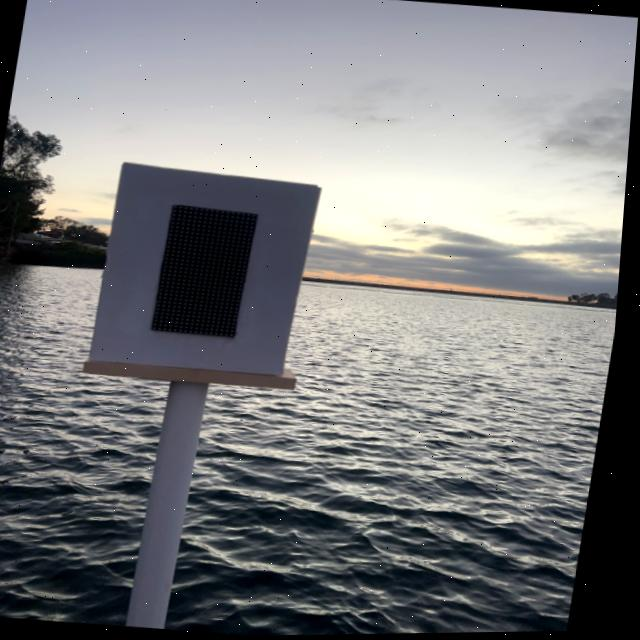led: (109, 179, 306, 379)
